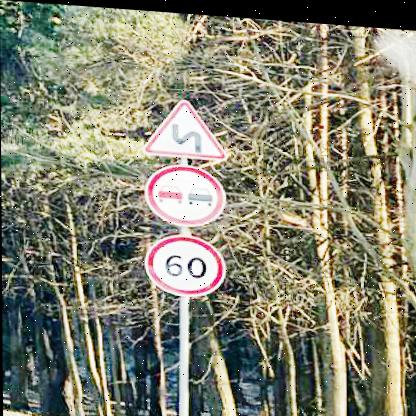Speed Limit -60-: (143, 232, 228, 297)
